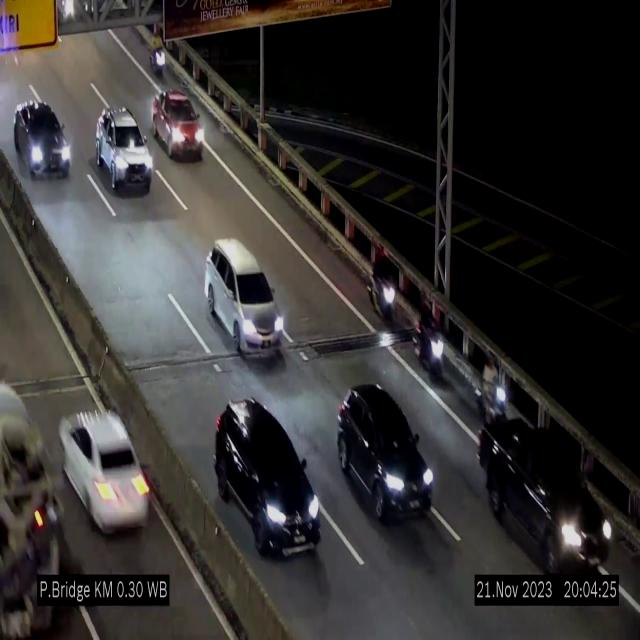Car: (478, 422, 613, 573), (214, 400, 324, 558), (337, 383, 435, 521), (204, 240, 284, 359), (95, 106, 153, 193), (11, 100, 71, 184), (152, 90, 204, 158)
Motorcycle: (410, 298, 446, 380), (368, 240, 398, 332), (478, 354, 508, 432), (150, 27, 168, 81)
